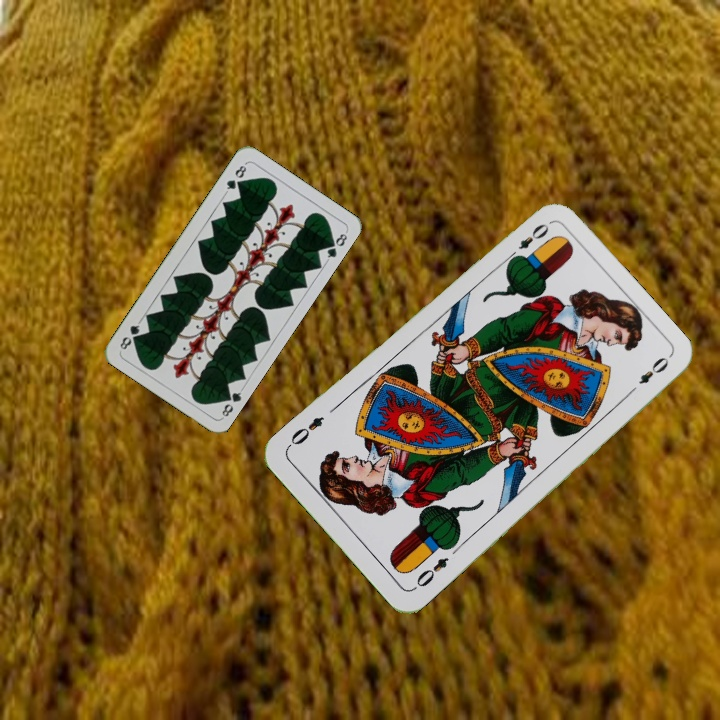EO: (503, 219, 552, 264), (409, 553, 452, 593)
G8: (217, 385, 246, 421), (222, 160, 249, 196)
